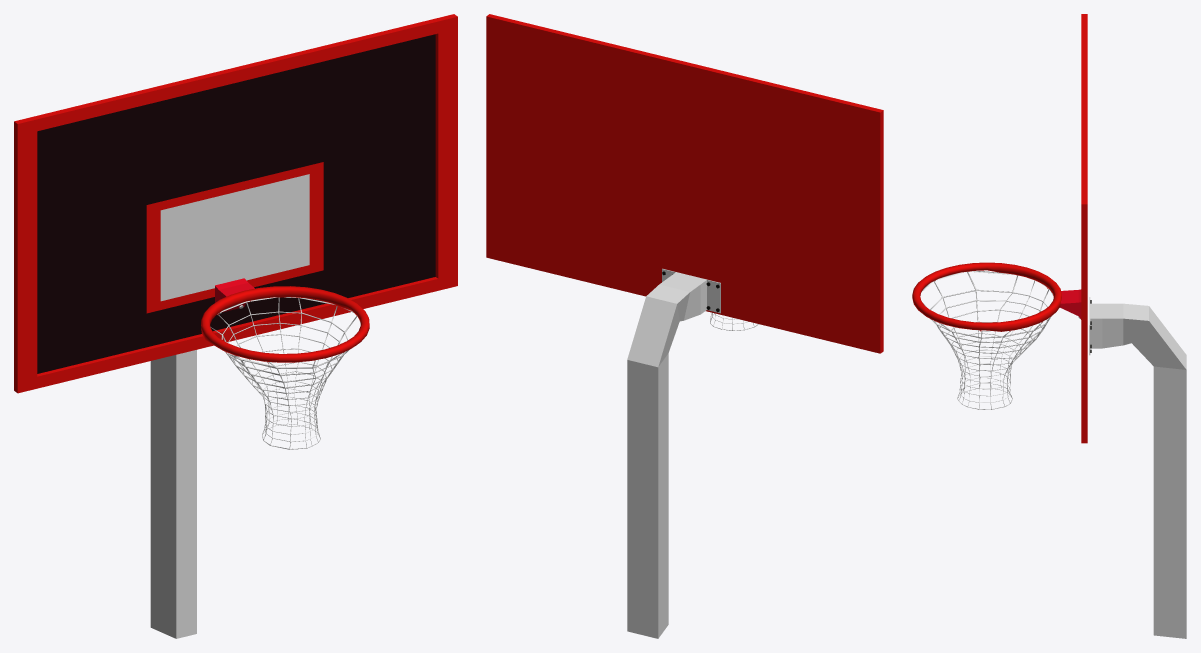
File: Basket.fbx
The picture shows the model from 3 angles, left to right: view 1: azimuth 30°, elevation 25°; view 2: azimuth 150°, elevation 25°; view 3: azimuth 270°, elevation 25°; orthographic projection. The views are drawn at different scales.
Visible parts, largest first — view 1: Plane.001, Cube.002, Cylinder.004, Circle; view 2: Plane.001, Cube.002; view 3: Cube.002, Cylinder.004, Circle, Plane.001, Cube.001.
Boxes of the visible parts, x1,y1,x2,y2 form: Plane.001: (14, 14, 457, 393); Cube.002: (150, 350, 196, 638); Cylinder.004: (210, 297, 360, 449); Circle: (201, 286, 369, 362); Plane.001: (486, 14, 883, 353); Cube.002: (627, 268, 720, 638); Cube.002: (1089, 297, 1186, 638); Cylinder.004: (921, 271, 1053, 409); Circle: (912, 262, 1061, 331); Plane.001: (1081, 14, 1087, 443); Cube.001: (1060, 289, 1081, 319).
Bounding box in the file's own units: 366 × 472 × 223.
